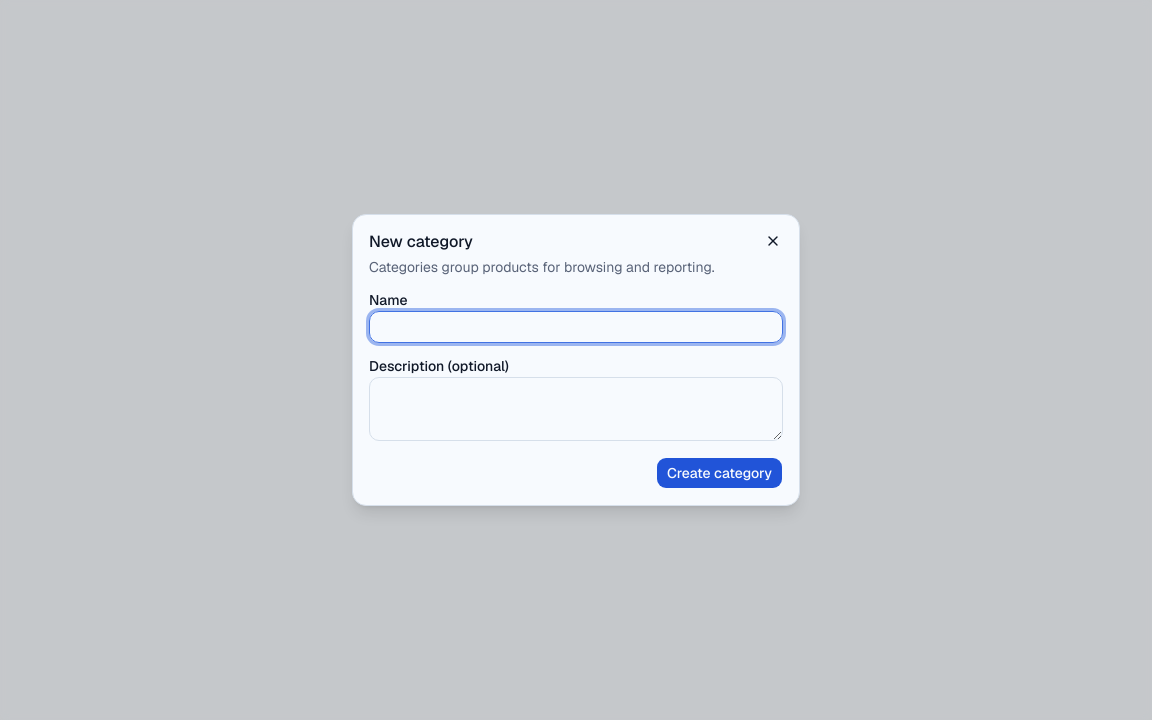
Test: CategoryFormDialog (create) › blocks submission with inline field errors when name is blank
Click the button "Create category". click: click(719, 473)
box: left=656, top=457, right=783, bottom=489
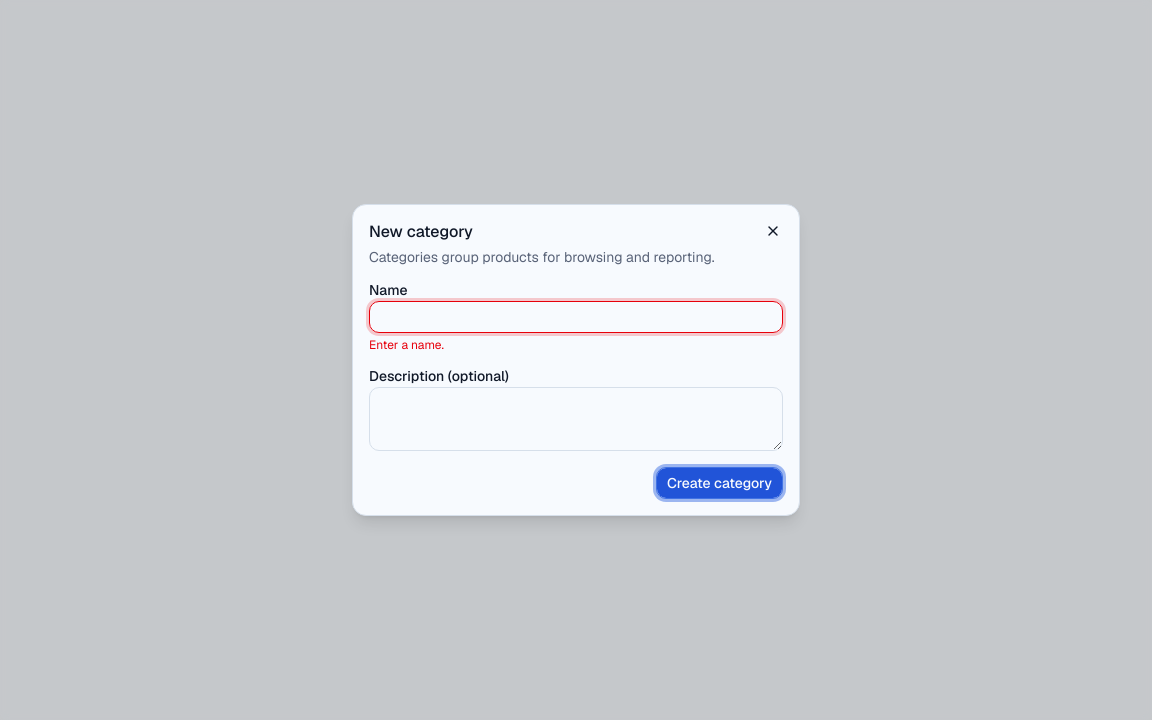
Check: the text "Enter a name." is shown, box left=369, top=337, right=444, bottom=353
